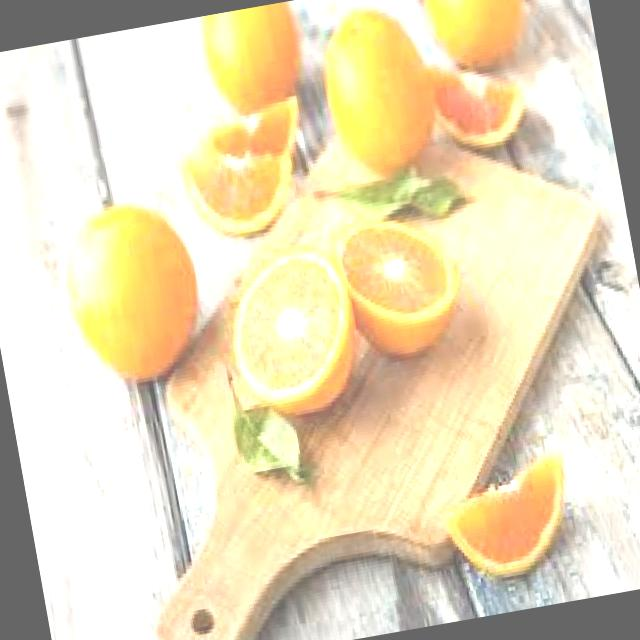Orange: (54, 190, 212, 392), (216, 236, 368, 424), (309, 0, 442, 180), (328, 204, 469, 365), (194, 0, 310, 116), (417, 0, 535, 74)
